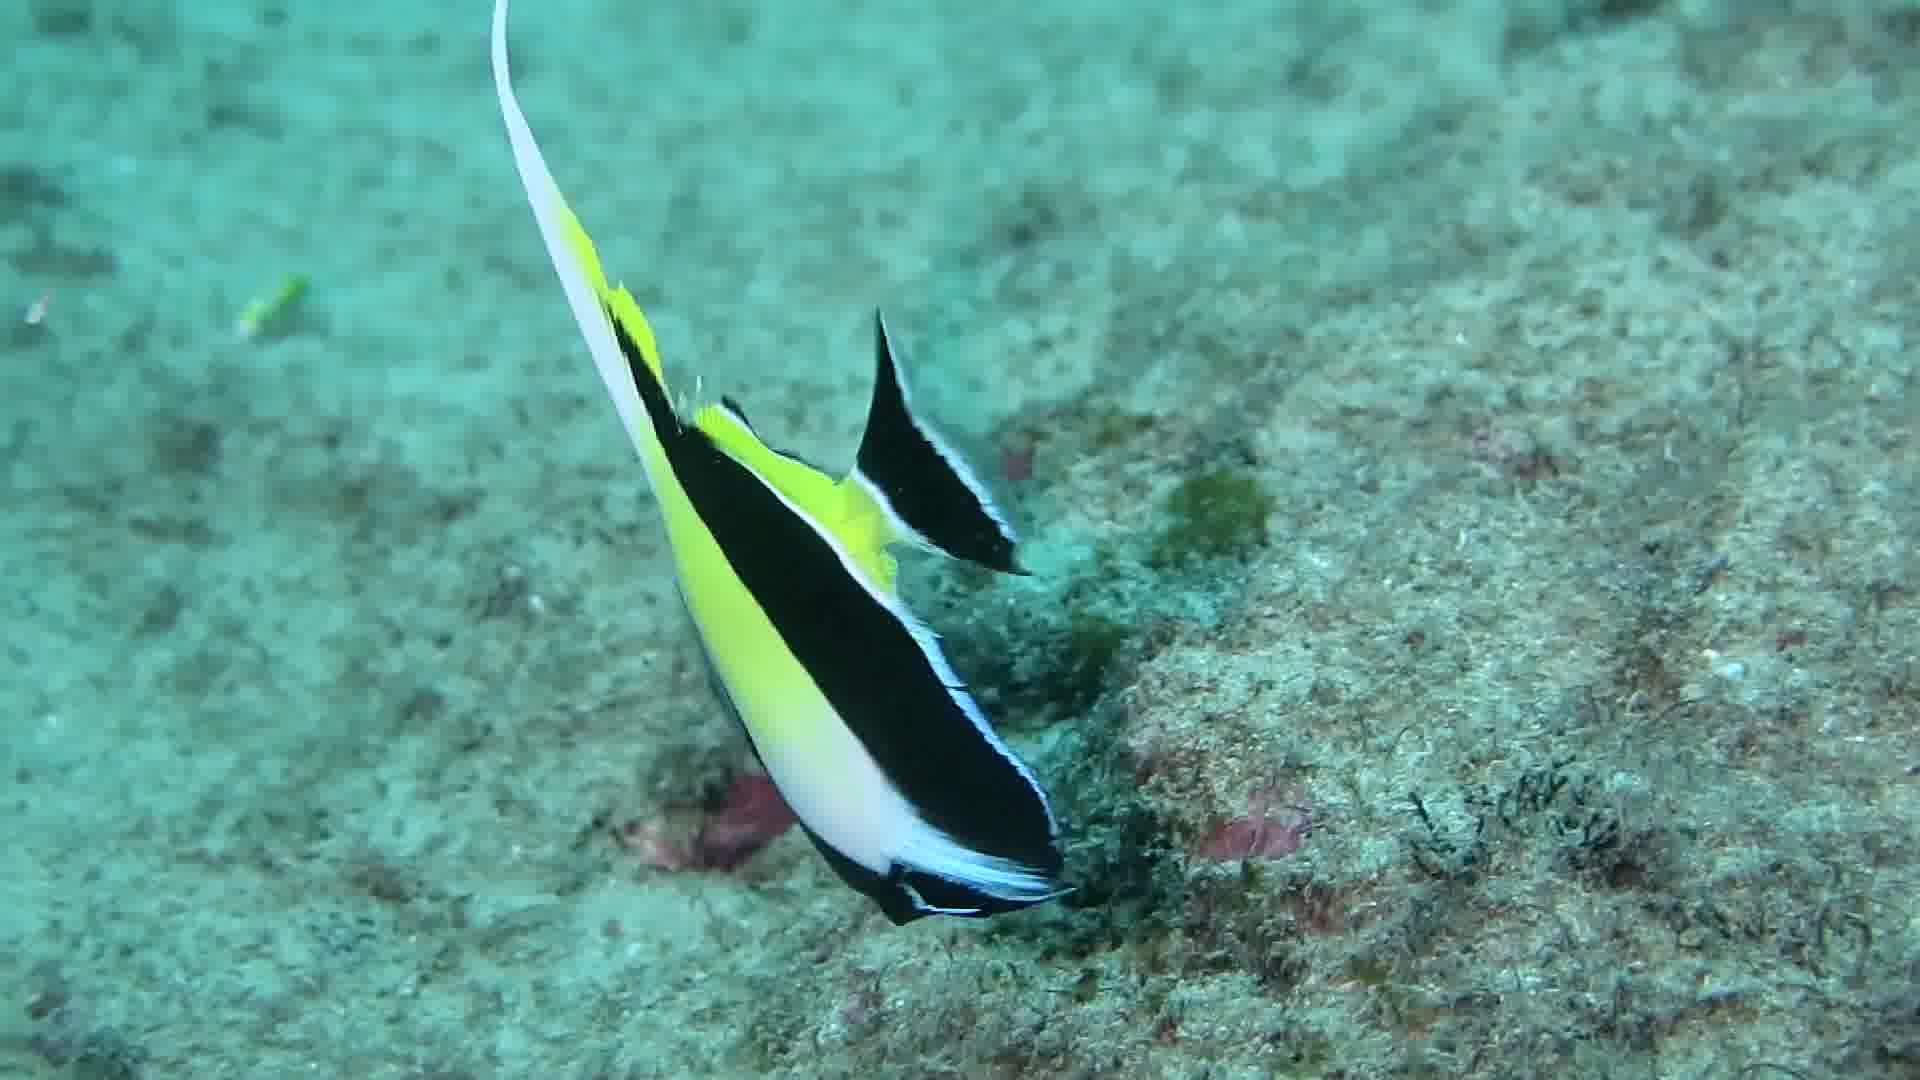Zanclus cornutus: (491, 203, 1261, 971)
